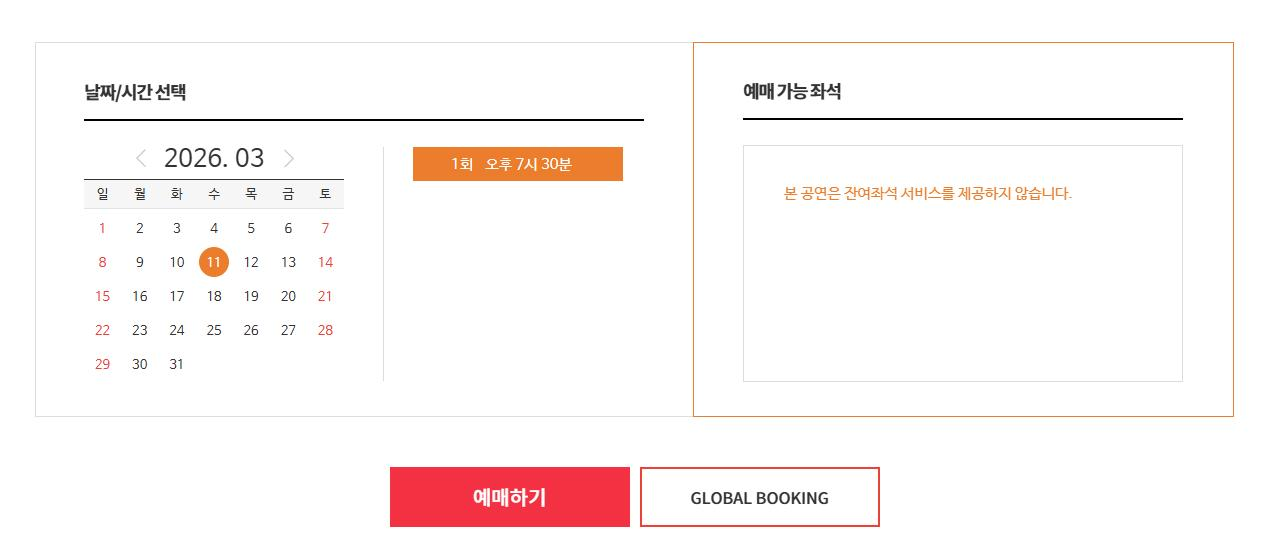button: (388, 467, 631, 528), (639, 467, 881, 527)
